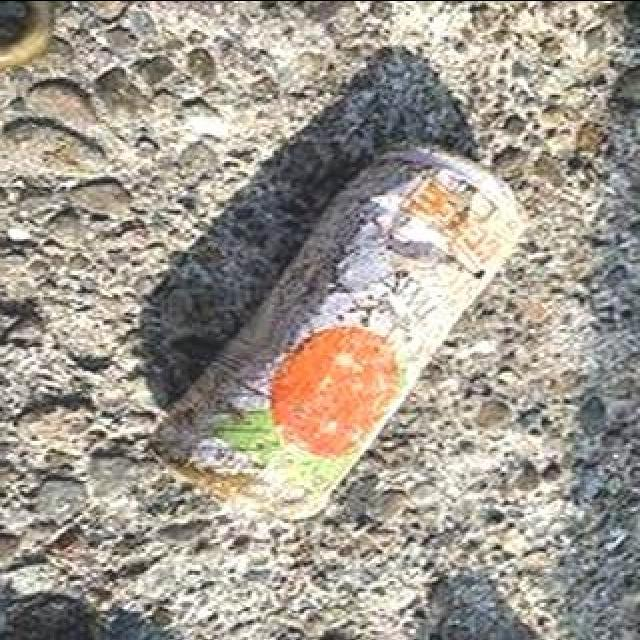can: (141, 141, 531, 523)
